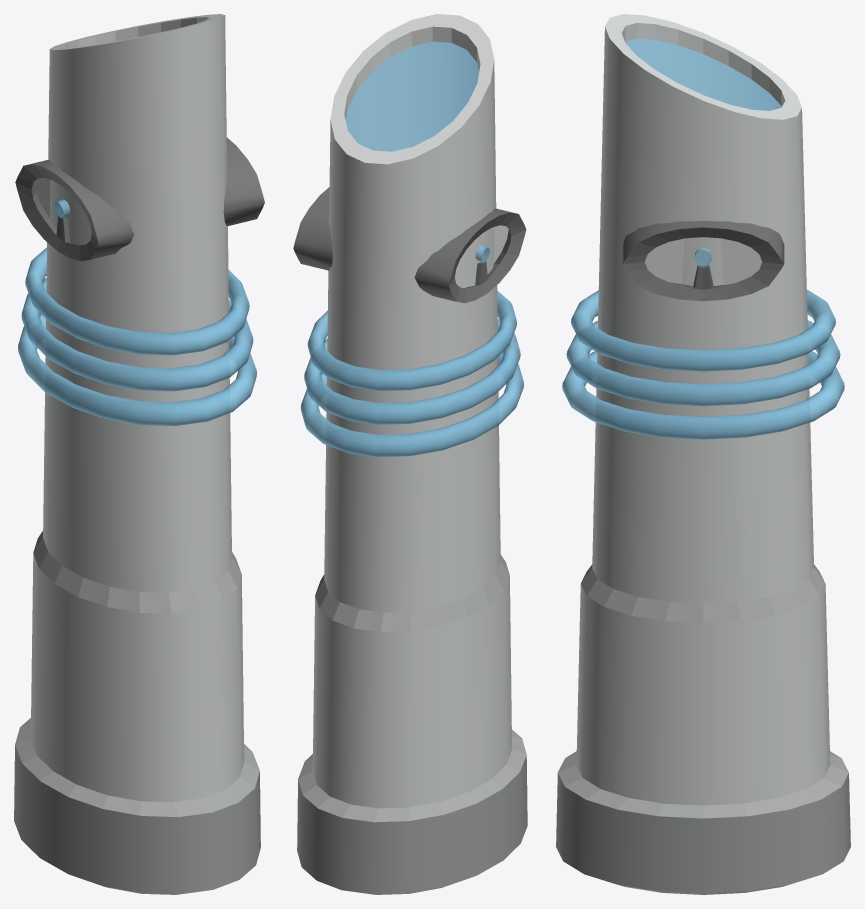
The model's file is IPHIS TOWER final.fbx.
3 renders of one model, left to right at view 1: azimuth 30°, elevation 25°; view 2: azimuth 150°, elevation 25°; view 3: azimuth 270°, elevation 25°, orthographic. The views are drawn at different scales.
Parts seen in each view (by area): view 1: polySurface5, polySurface3, polySurface2, polySurface1, polySurface8, polySurface4; view 2: polySurface5, polySurface3, polySurface2, polySurface1, polySurface8, polySurface4; view 3: polySurface5, polySurface4, polySurface3, polySurface2, polySurface1.
Part boxes in pixels (bbox=[...]): polySurface5: bbox=[14, 14, 260, 894]; polySurface3: bbox=[18, 314, 256, 426]; polySurface2: bbox=[25, 247, 249, 355]; polySurface1: bbox=[21, 278, 253, 391]; polySurface8: bbox=[15, 160, 134, 261]; polySurface4: bbox=[223, 137, 264, 226]; polySurface5: bbox=[297, 14, 527, 894]; polySurface3: bbox=[300, 352, 523, 457]; polySurface2: bbox=[307, 291, 516, 391]; polySurface1: bbox=[304, 319, 520, 424]; polySurface8: bbox=[414, 208, 526, 303]; polySurface4: bbox=[293, 187, 332, 270]; polySurface5: bbox=[556, 14, 850, 894]; polySurface4: bbox=[622, 221, 784, 301]; polySurface3: bbox=[562, 351, 844, 439]; polySurface2: bbox=[571, 289, 835, 371]; polySurface1: bbox=[566, 320, 840, 406].
Bounding box in the file's own units: 0.059 × 0.2458 × 0.0794.
